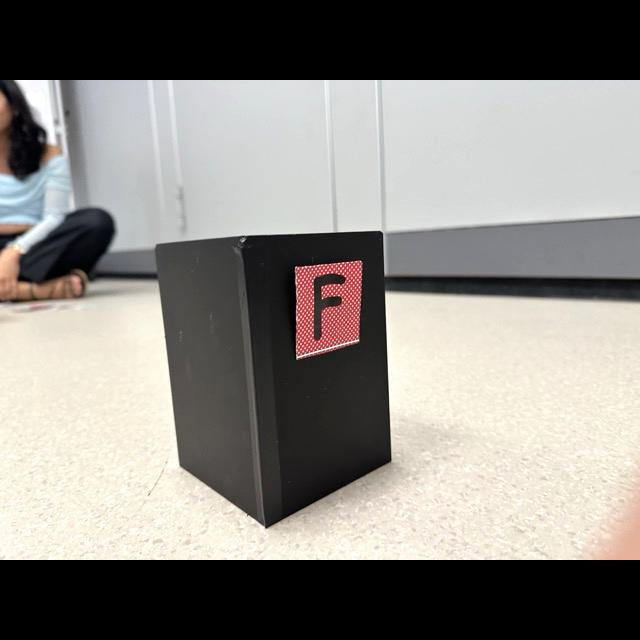F: (313, 274, 345, 339)
